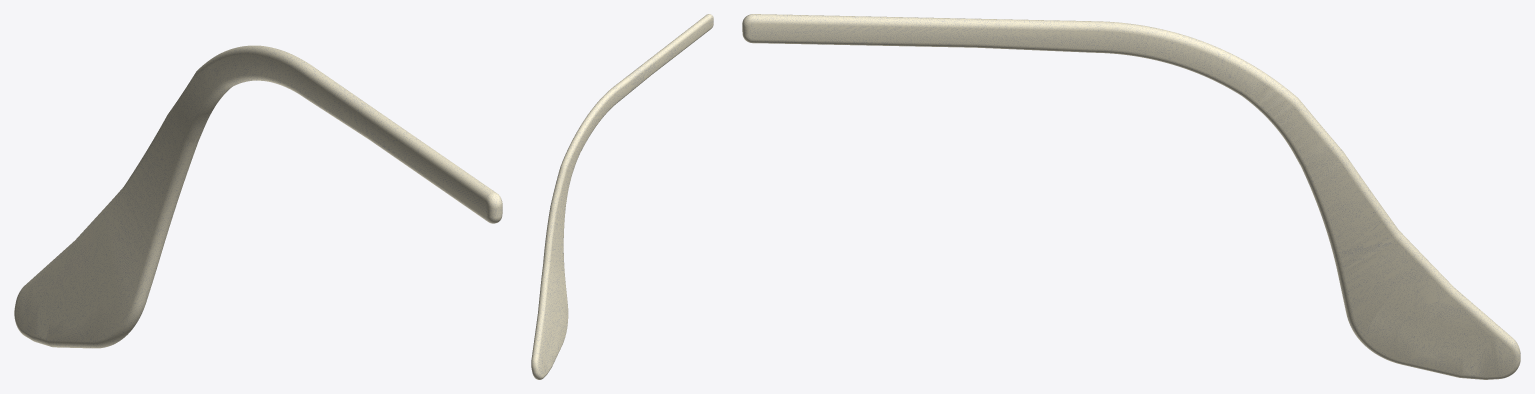
Rendered from original-16.obj.
The picture shows the model from 3 angles, left to right: view 1: azimuth 30°, elevation 25°; view 2: azimuth 150°, elevation 25°; view 3: azimuth 270°, elevation 25°; orthographic projection. The views are drawn at different scales.
Visible parts, largest first — view 1: Group_8_2/Group_8_1_2/mesh38/mesh38-geometry#mesh38-geometry; view 2: Group_8_2/Group_8_1_2/mesh38/mesh38-geometry#mesh38-geometry; view 3: Group_8_2/Group_8_1_2/mesh38/mesh38-geometry#mesh38-geometry.
Boxes of the visible parts, x1,y1,x2,y2 form: Group_8_2/Group_8_1_2/mesh38/mesh38-geometry#mesh38-geometry: (14, 45, 502, 348); Group_8_2/Group_8_1_2/mesh38/mesh38-geometry#mesh38-geometry: (531, 14, 713, 379); Group_8_2/Group_8_1_2/mesh38/mesh38-geometry#mesh38-geometry: (742, 14, 1520, 379).
Size of the model in its own units: 0.0467 by 0.2421 by 0.4349.
